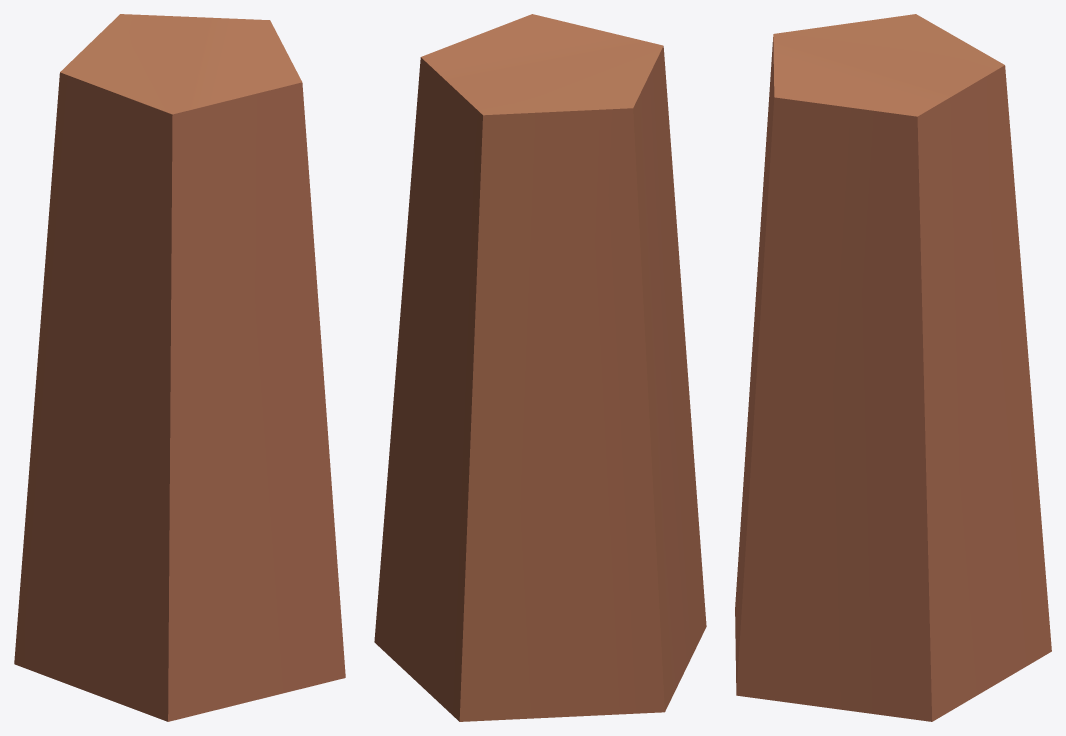
The model's file is tree_single_A_cut.glb.
The picture shows the model from 3 angles, left to right: view 1: azimuth 30°, elevation 25°; view 2: azimuth 150°, elevation 25°; view 3: azimuth 270°, elevation 25°; orthographic projection.
Parts seen in each view (by area): view 1: tree_single_A_cut; view 2: tree_single_A_cut; view 3: tree_single_A_cut.
Part boxes in pixels (x1,y1,x2,y2): tree_single_A_cut: (14, 14, 345, 721); tree_single_A_cut: (374, 14, 706, 721); tree_single_A_cut: (735, 14, 1051, 721).
Bounding box in the file's own units: 0.1697 × 0.3302 × 0.1617.
1 material, 1 textured.
